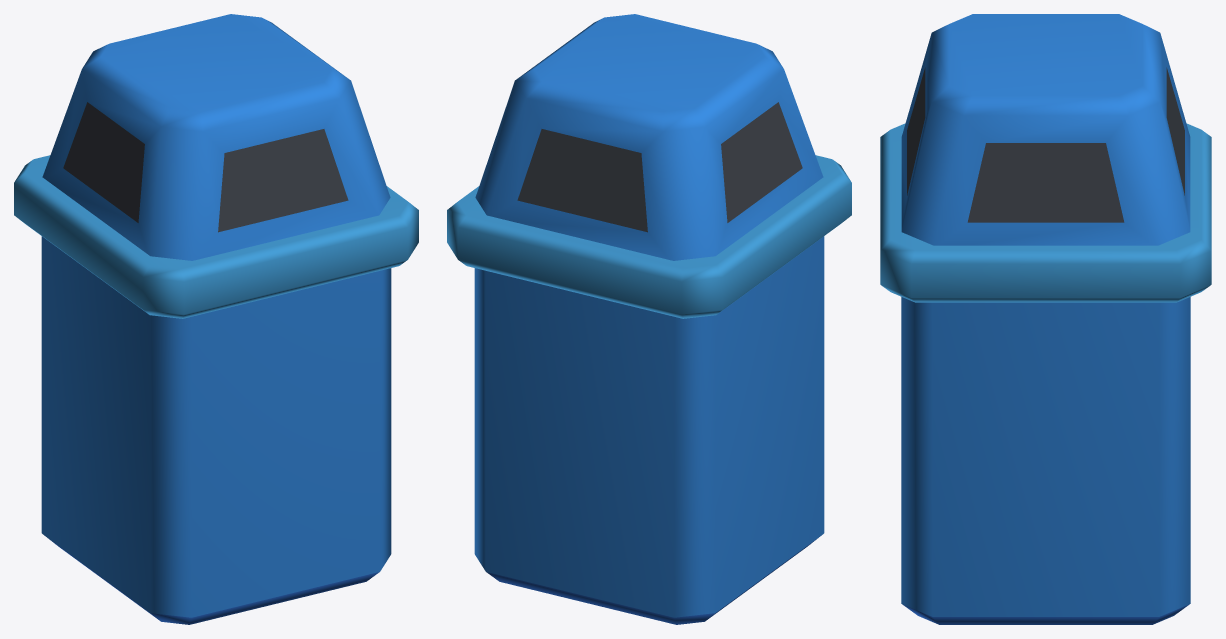
File: trash_04_pacote.glb
3 views of the same model, side by side, from view 1: azimuth 30°, elevation 25°; view 2: azimuth 150°, elevation 25°; view 3: azimuth 270°, elevation 25° (orthographic). The views are drawn at different scales.
Visible parts, largest first — view 1: trash_04_pacote; view 2: trash_04_pacote; view 3: trash_04_pacote.
Part boxes in pixels (x1,y1,x2,y2): trash_04_pacote: (14,14,418,624); trash_04_pacote: (447,14,851,624); trash_04_pacote: (880,14,1211,624).
Bounding box in the file's own units: 0.5099 × 0.8757 × 0.5099.
1 material, 1 textured.
